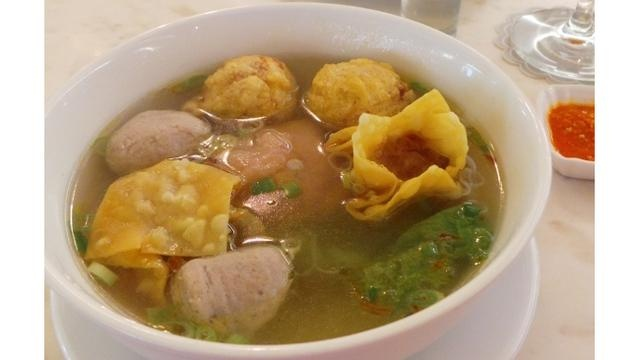bakso_malang: (71, 55, 505, 345)
